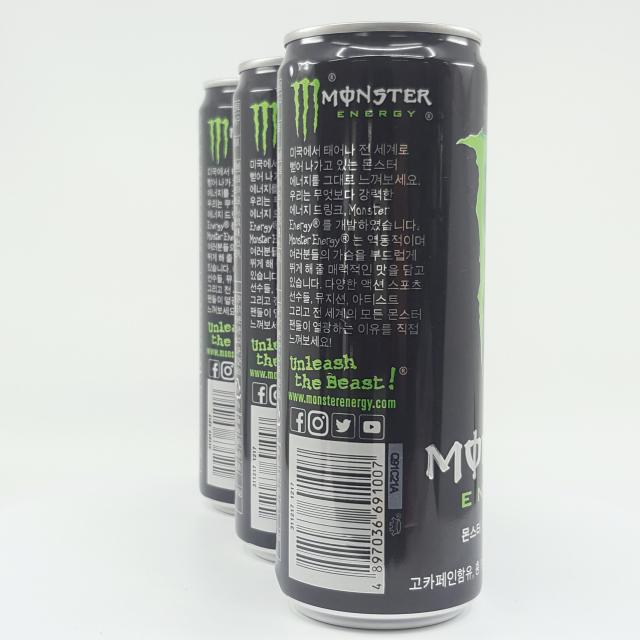--------355ML: (276, 22, 486, 631)
